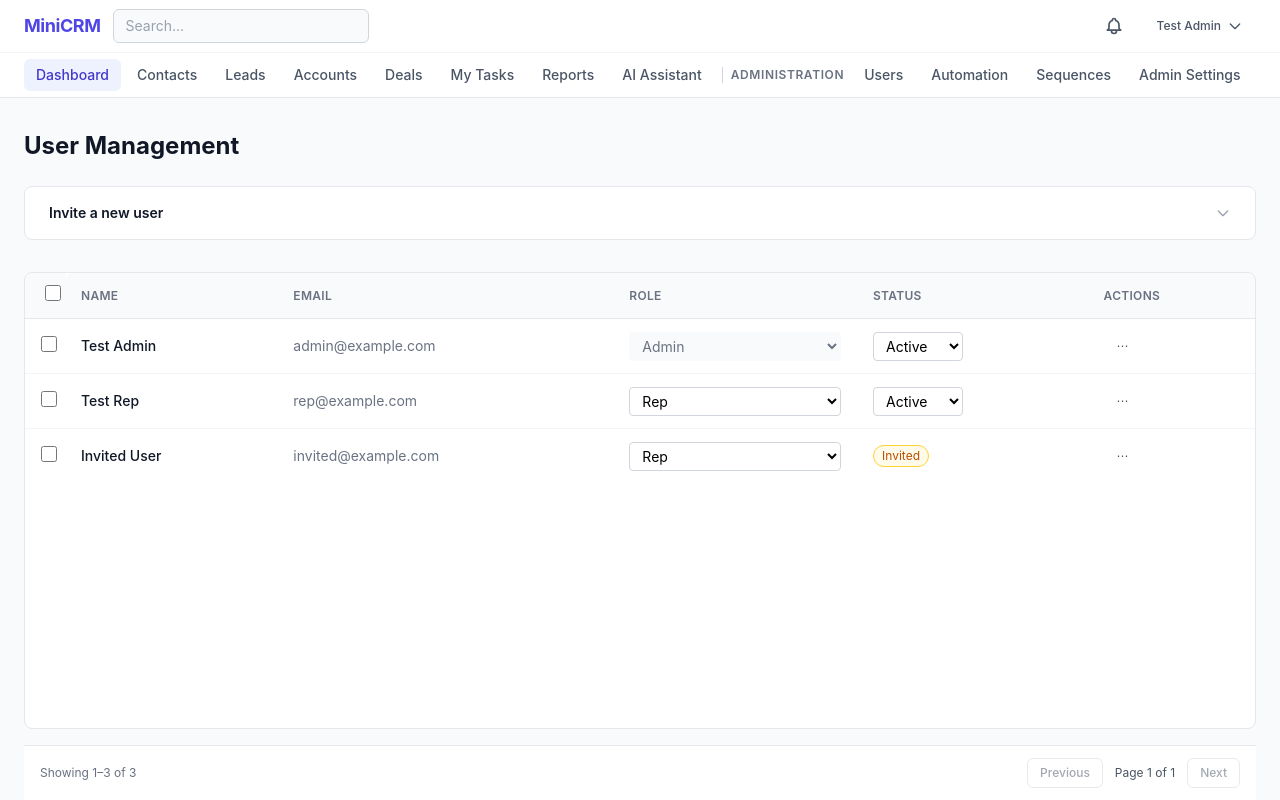
it: UsersPage › invite form › shows success message and set-password link after a successful invite
The width and height of the screenshot is (1280, 800).
Click the button with test id "invite-form-toggle": click(106, 212) [25,187,1255,239]
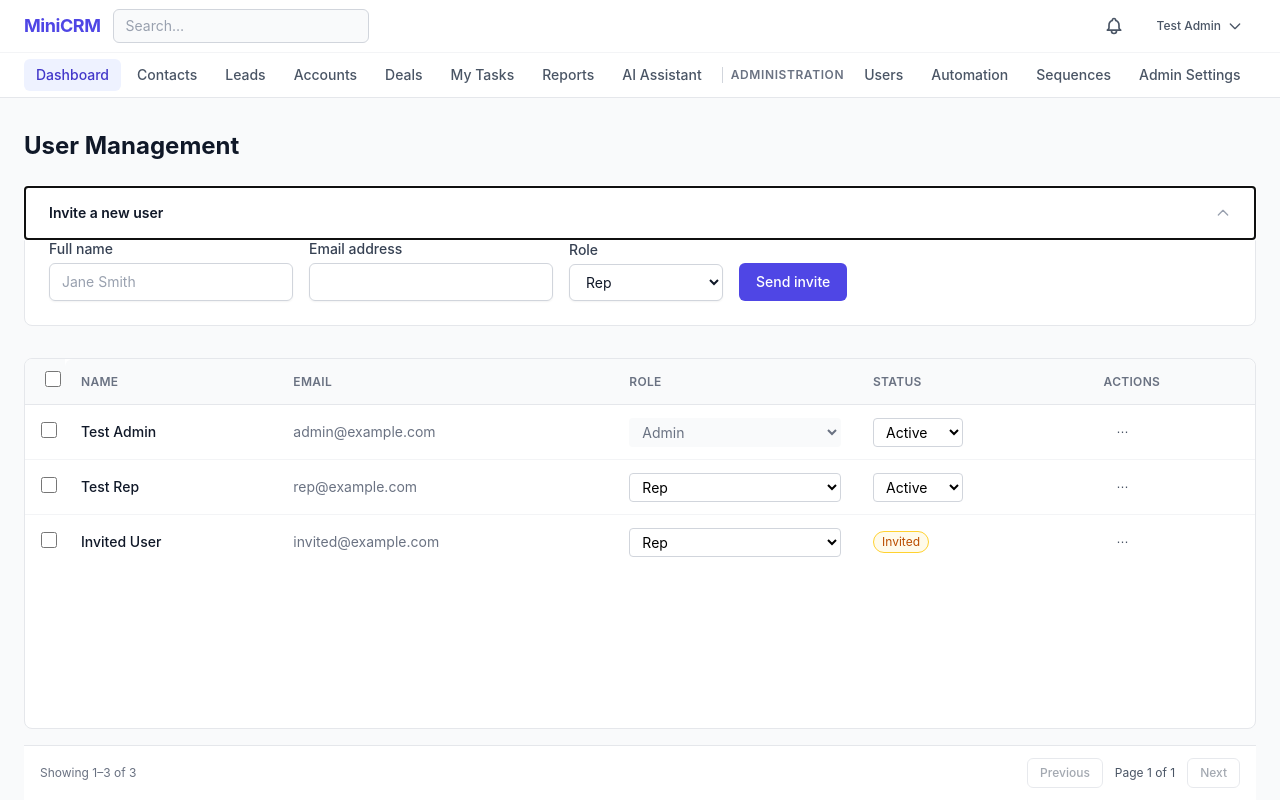
In the field with test id "invite-name": (171, 282) [49,263,293,301], type "New User"
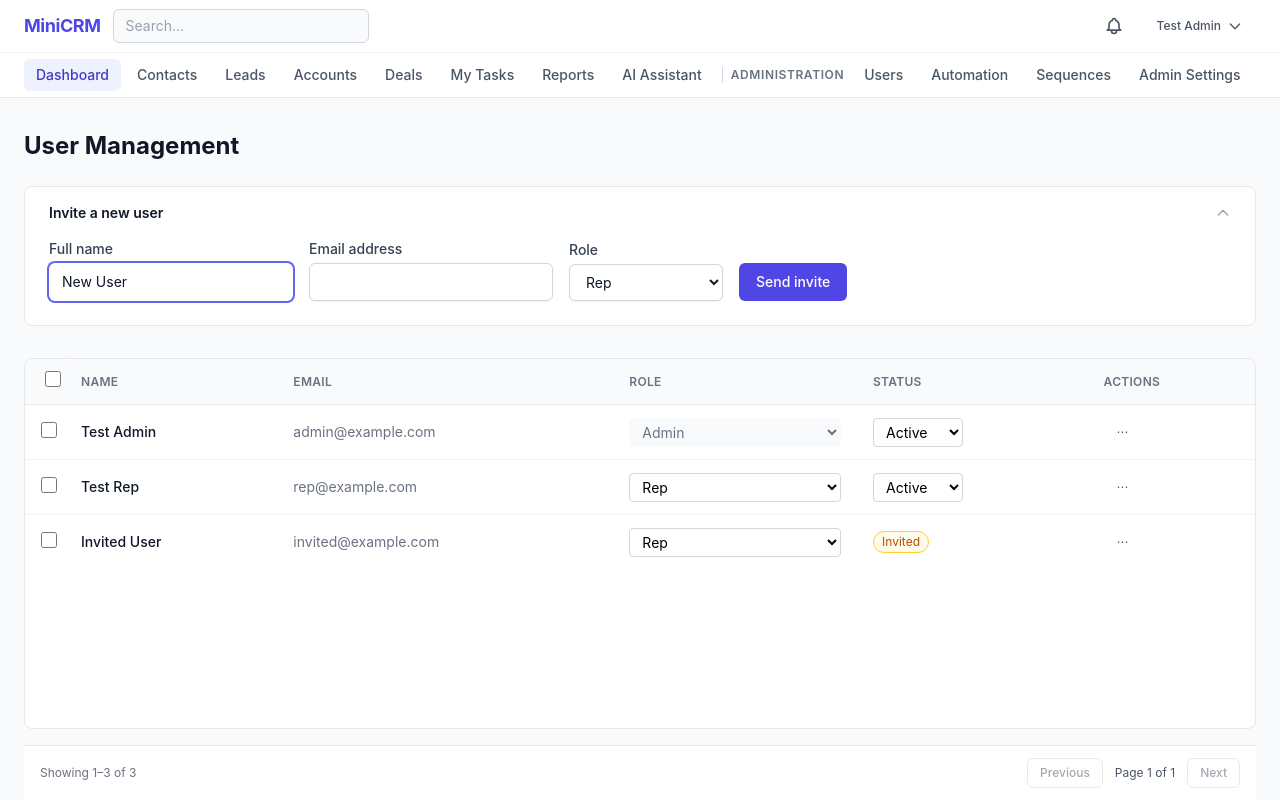
In the field with test id "invite-email": (431, 282) [309,263,553,301], type "new@example.com"
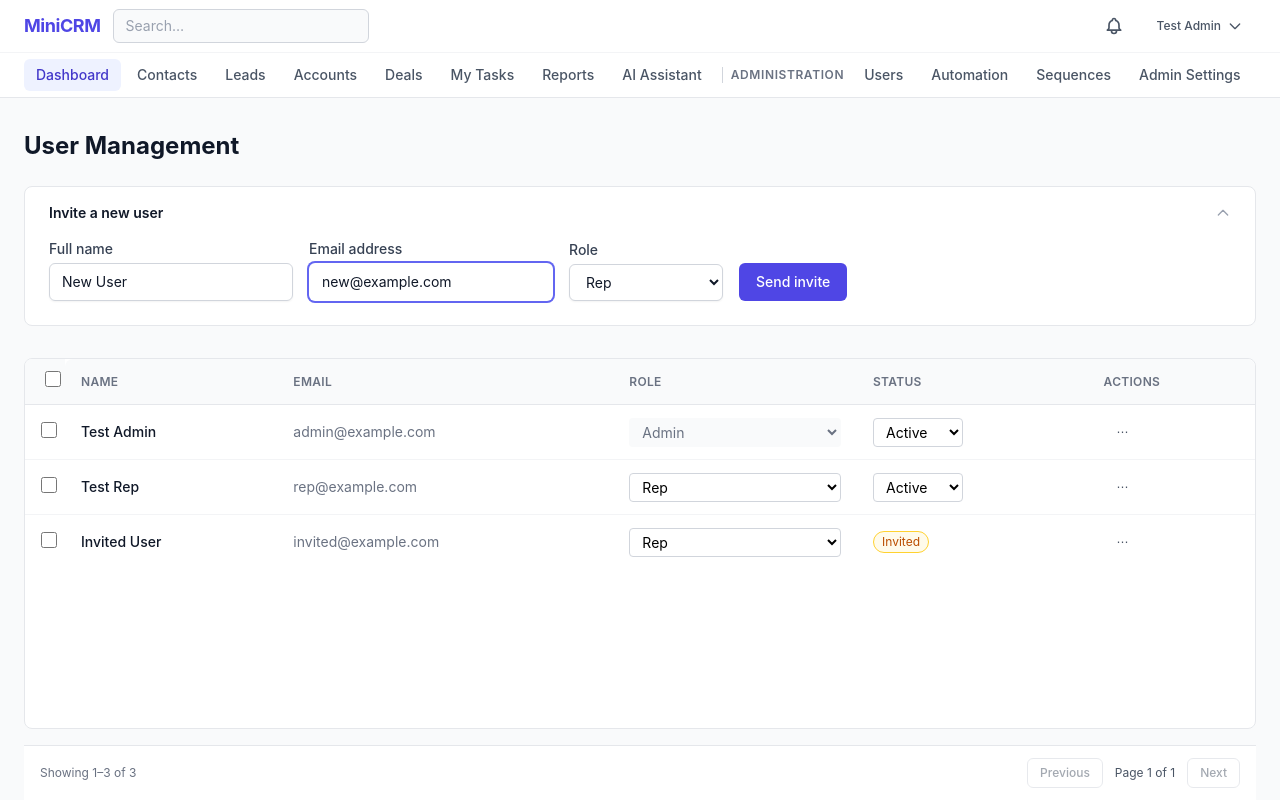
Click the button with test id "invite-submit": click(793, 282) [739,263,847,301]
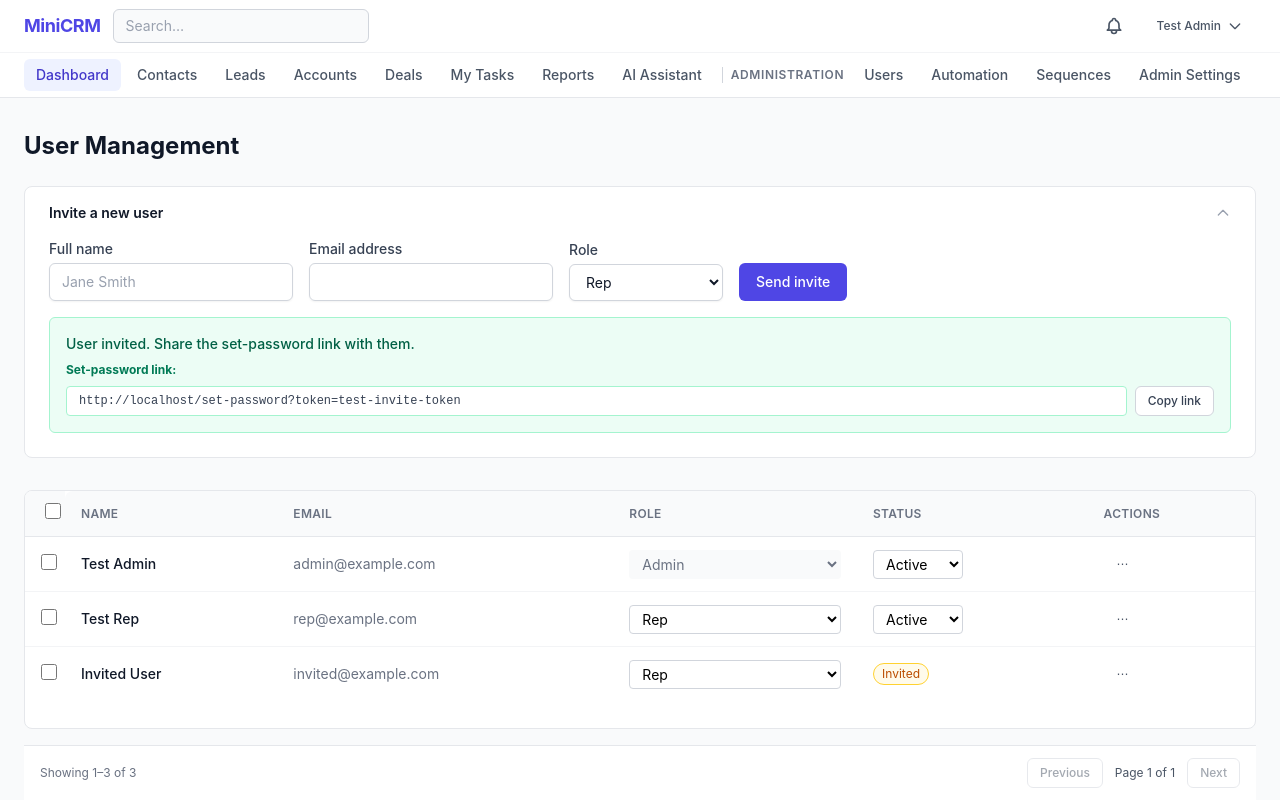
expect the text "User invited. Share the set-password link with them." is shown: met, box [66,335,415,352]
